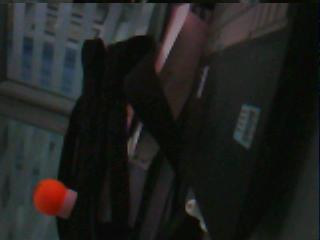oball: (32, 179, 66, 216)
